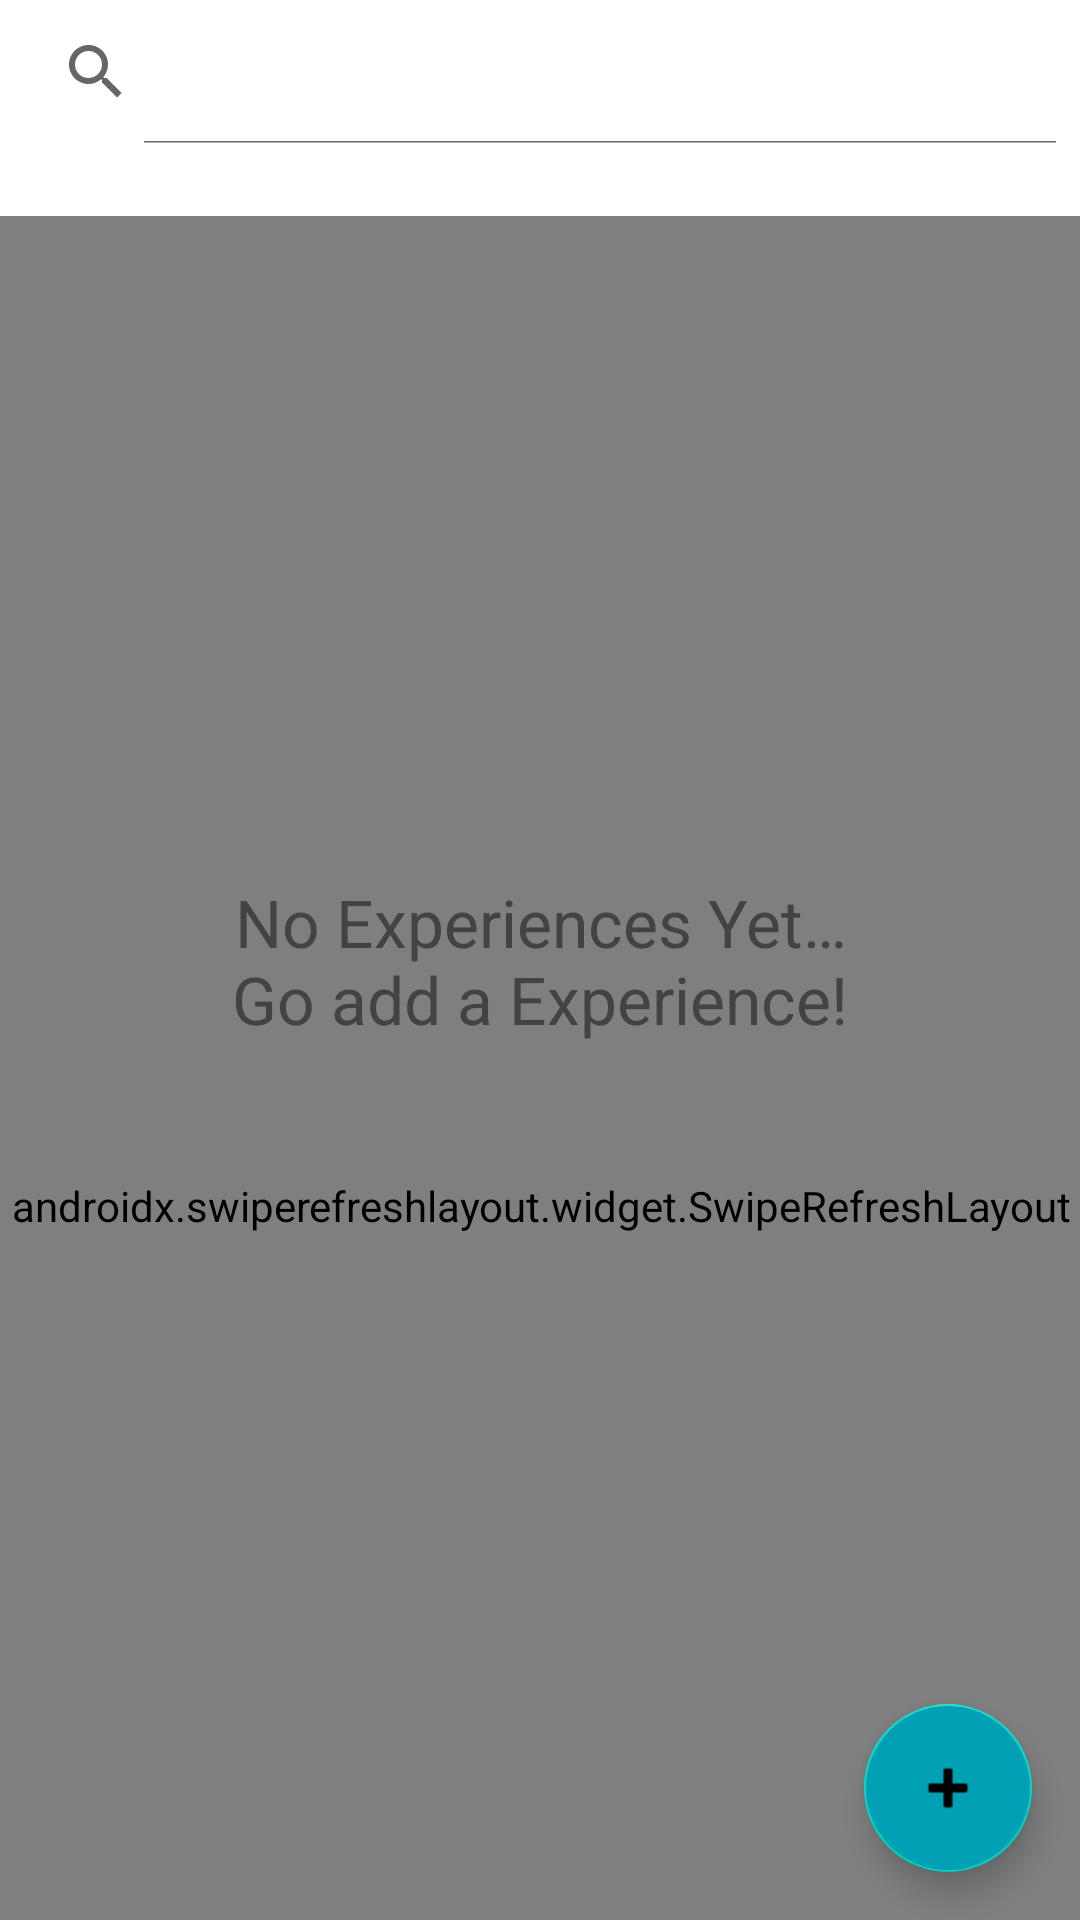

Icon click points for this 1080*1920 phone screenshot, format (x=x, y=y):
Add Experience: (x=948, y=1788)
